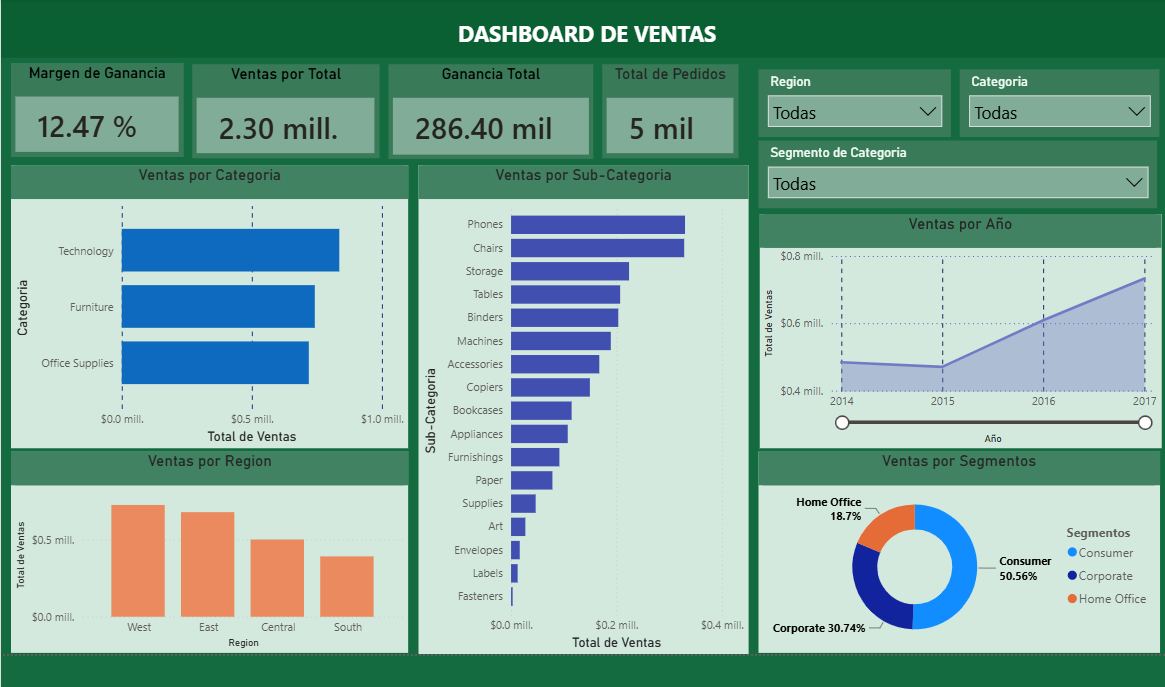

The page's visual inventory and layout, read from the dashboard file:
{"tool":"powerbi","page":{"name":"Executive Dashboard","canvas":[1280,720],"ordinal":0},"visuals":[{"type":"cardVisual","title":"Ganancia Total","fields":{"Data":["Sample_ Superstore.Total Profit"]},"box":[425.4,72.7,225,104.3],"z":0},{"type":"cardVisual","title":"Total de Pedidos","fields":{"Data":["Sample_ Superstore.Total Orders"]},"box":[660,72.7,149.6,102.9],"z":1000},{"type":"cardVisual","title":"Margen de Ganancia","fields":{"Data":["Sample_ Superstore.Profit Margin"]},"box":[11,71.4,189.4,102.9],"z":2000},{"type":"clusteredBarChart","title":"Ventas por Categoria","fields":{"Category":["Sample_ Superstore.Category"],"Y":["Sample_ Superstore.Total Sales"]},"box":[11,183.9,436.4,310.1],"z":4000},{"type":"lineClusteredColumnComboChart","title":"Ventas por Region","fields":{"Category":["Sample_ Superstore.Region"],"Y":["Sample_ Superstore.Total Sales"]},"box":[11,498.1,436.4,220.9],"z":5000},{"type":"lineChart","title":"Ventas por Año","fields":{"Category":["Sample_ Superstore.Order Date.Variación.Jerarquía de fechas.Año","Sample_ Superstore.Order Date.Variación.Jerarquía de fechas.Trimestre","Sample_ Superstore.Order Date.Variación.Jerarquía de fechas.Mes","Sample_ Superstore.Order Date.Variación.Jerarquía de fechas.Día"],"Y":["Sample_ Superstore.Total Sales"]},"box":[832.9,237.4,440.5,256.6],"z":6000},{"type":"clusteredBarChart","title":"Ventas por Sub-Categoria","fields":{"Category":["Sample_ Superstore.Sub-Category"],"Y":["Sample_ Superstore.Total Sales"]},"box":[458.3,183.9,362.3,536.5],"z":7000},{"type":"slicer","fields":{"Values":["Sample_ Superstore.Region"]},"box":[831.6,78.2,211.3,74.1],"z":8000},{"type":"slicer","fields":{"Values":["Sample_ Superstore.Category"]},"box":[1052.5,78.2,219.6,74.1],"z":9000},{"type":"slicer","fields":{"Values":["Sample_ Superstore.Category","Sample_ Superstore.Segment"]},"box":[831.6,156.4,437.7,74.1],"z":10000},{"type":"cardVisual","title":"Ventas por Total","fields":{"Data":["Sample_ Superstore.Total Sales"]},"box":[209.9,72.7,205.8,102.9],"z":11000},{"type":"textbox","box":[0,0,1280.3,65.9],"z":12000},{"type":"donutChart","title":"Ventas por Segmentos","fields":{"Category":["Sample_ Superstore.Segment"],"Y":["Sample_ Superstore.Total Sales"]},"box":[831.6,498.1,440.5,220.9],"z":13000}]}

Visuals, with their boxes in screenshot pixels (x1, y1, x2, y2):
"Ganancia Total" cardVisual: (left=385, top=65, right=587, bottom=159)
"Total de Pedidos" cardVisual: (left=595, top=65, right=730, bottom=158)
"Margen de Ganancia" cardVisual: (left=13, top=64, right=183, bottom=156)
"Ventas por Categoria" clusteredBarChart: (left=13, top=165, right=405, bottom=443)
"Ventas por Region" lineClusteredColumnComboChart: (left=13, top=447, right=405, bottom=645)
"Ventas por Año" lineChart: (left=751, top=213, right=1146, bottom=443)
"Ventas por Sub-Categoria" clusteredBarChart: (left=414, top=165, right=740, bottom=647)
slicer - Sample_ Superstore.Region: (left=749, top=70, right=939, bottom=137)
slicer - Sample_ Superstore.Category: (left=948, top=70, right=1145, bottom=137)
slicer - Sample_ Superstore.Category x Sample_ Superstore.Segment: (left=749, top=140, right=1142, bottom=207)
"Ventas por Total" cardVisual: (left=191, top=65, right=376, bottom=158)
textbox: (left=3, top=0, right=1152, bottom=59)
"Ventas por Segmentos" donutChart: (left=749, top=447, right=1145, bottom=645)
